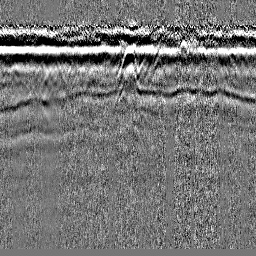cavity: (117, 45, 139, 79)
